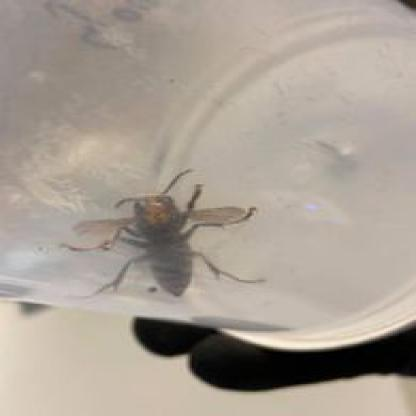Asian Hornet: (55, 167, 271, 308)
